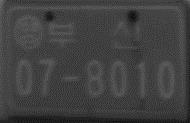-: (59, 73, 84, 85)
0: (108, 59, 130, 100), (14, 58, 35, 98), (156, 59, 176, 100)
1: (134, 60, 151, 99)
7: (35, 56, 59, 99)
8: (85, 58, 107, 101)
부산_D: (47, 16, 145, 53)
영: (13, 13, 45, 50)
